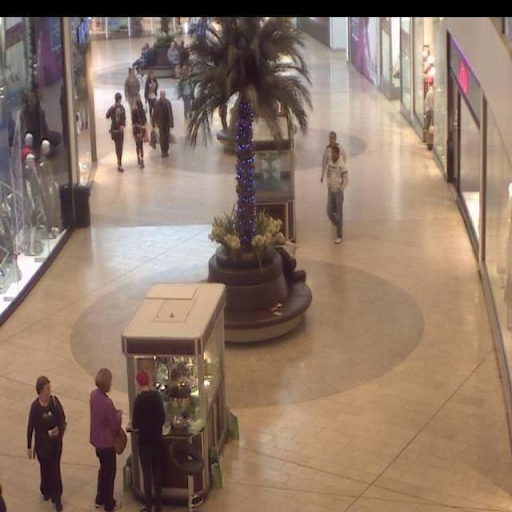person: (26, 375, 68, 507), (90, 368, 122, 512), (132, 370, 164, 511), (324, 146, 346, 243), (105, 93, 127, 170), (321, 128, 346, 189), (153, 91, 173, 156), (131, 98, 148, 168), (176, 66, 194, 121), (144, 72, 159, 126), (122, 65, 141, 104), (165, 41, 180, 76)
